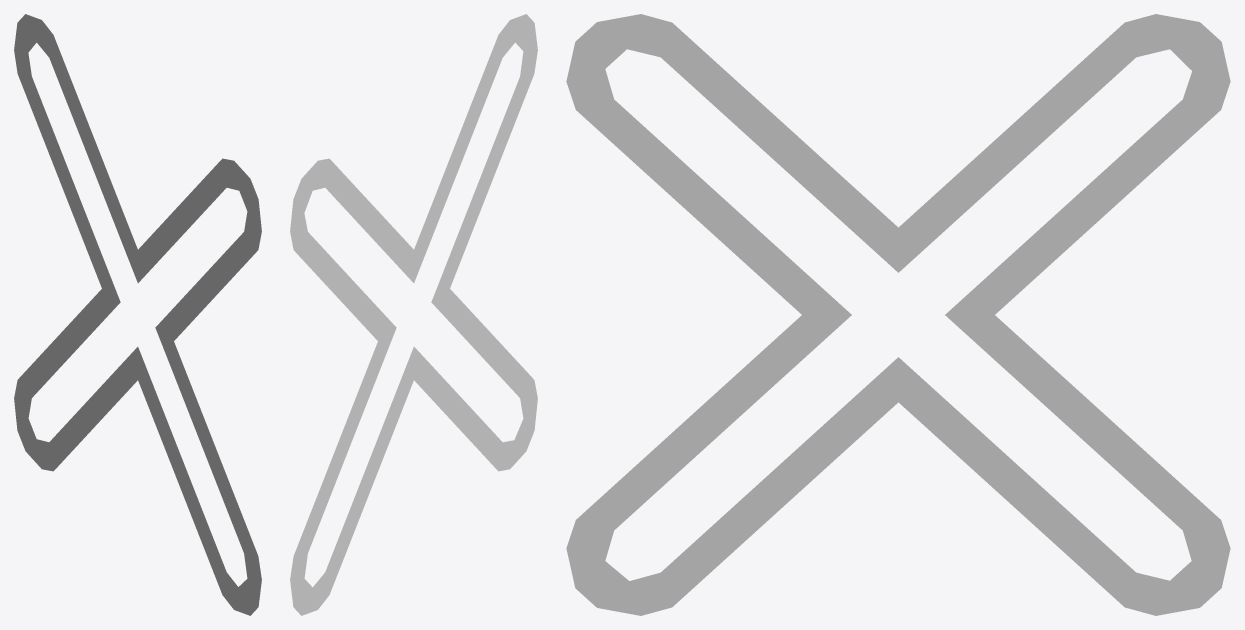
Rendered from redSign .fbx.
The picture shows the model from 3 angles, left to right: view 1: azimuth 30°, elevation 25°; view 2: azimuth 150°, elevation 25°; view 3: azimuth 270°, elevation 25°; orthographic projection. The views are drawn at different scales.
Visible parts, largest first — view 1: Plane.006; view 2: Plane.006; view 3: Plane.006.
Part boxes in pixels (x1=…): Plane.006: x1=14, y1=14, x2=261, y2=615; Plane.006: x1=290, y1=14, x2=537, y2=615; Plane.006: x1=566, y1=14, x2=1230, y2=615.
Bounding box in the file's own units: 5.93e-08 × 0.8236 × 0.8236.
